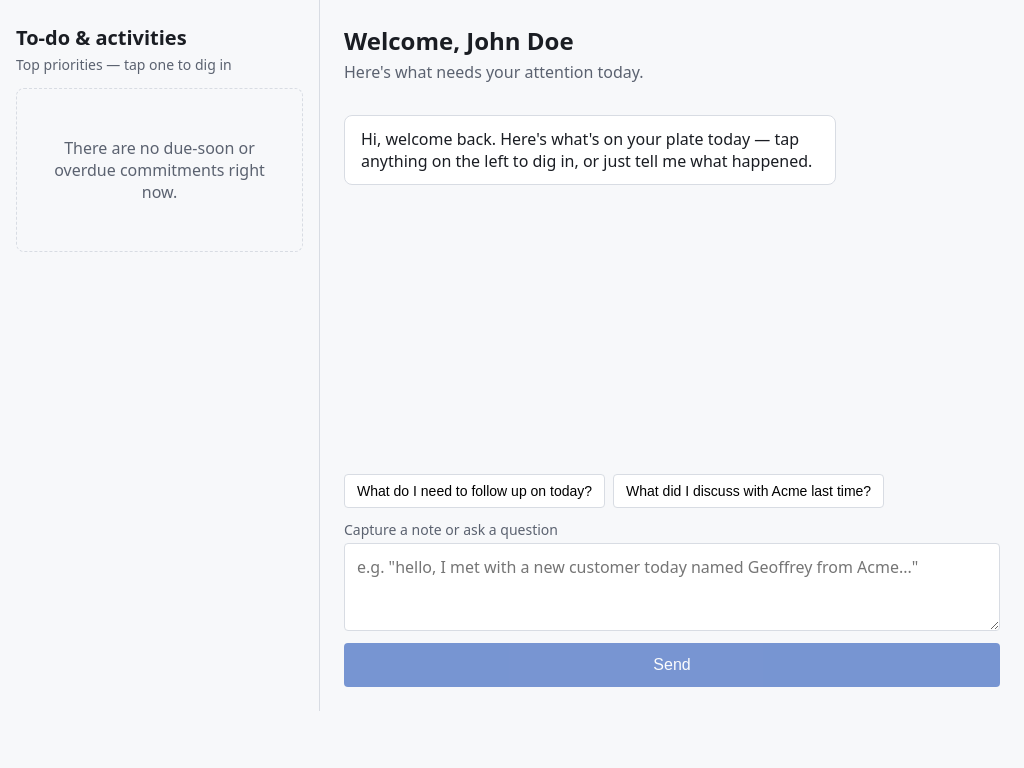
Test: HomePage › routes a non-question entry to /interactions (capture), not /qa
Expected: the text "There are no due-soon or overdue commitments right now." is shown, left=49, top=137, right=270, bottom=203
Type "met with Acme, discussed renewal" into the text box labelled "Capture a note or ask a question".
click(672, 587); type("met with Acme, discussed renewal")  # box left=344, top=543, right=1000, bottom=631
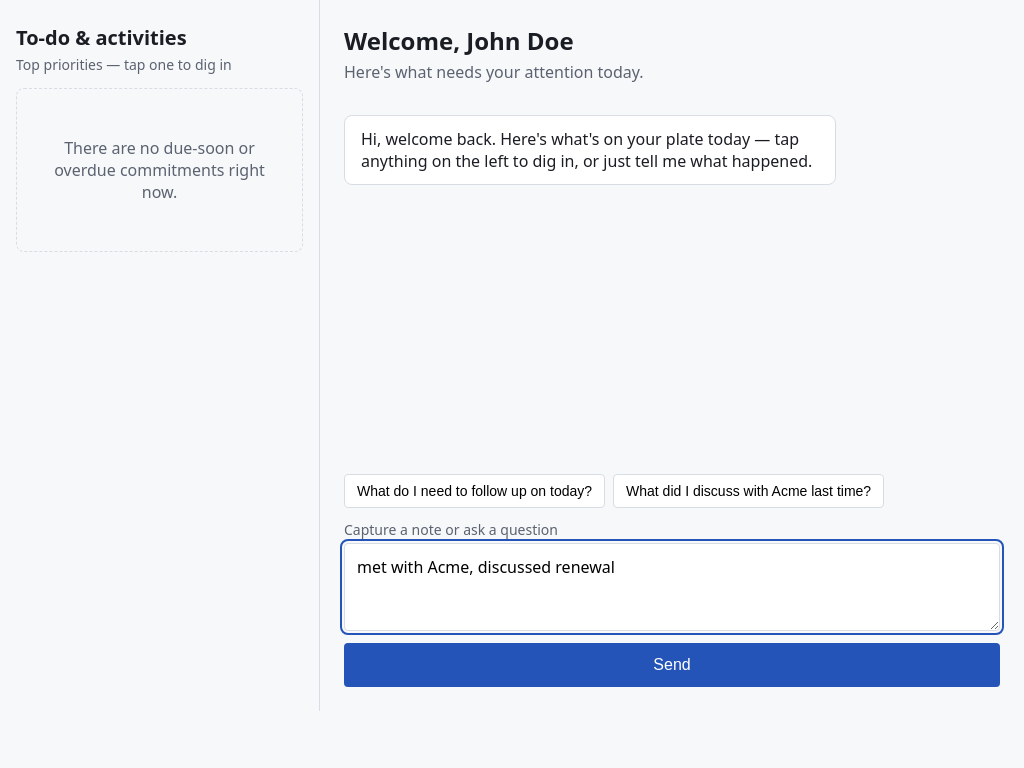
Click the button "Send".
click(672, 665)  # box left=344, top=643, right=1000, bottom=687
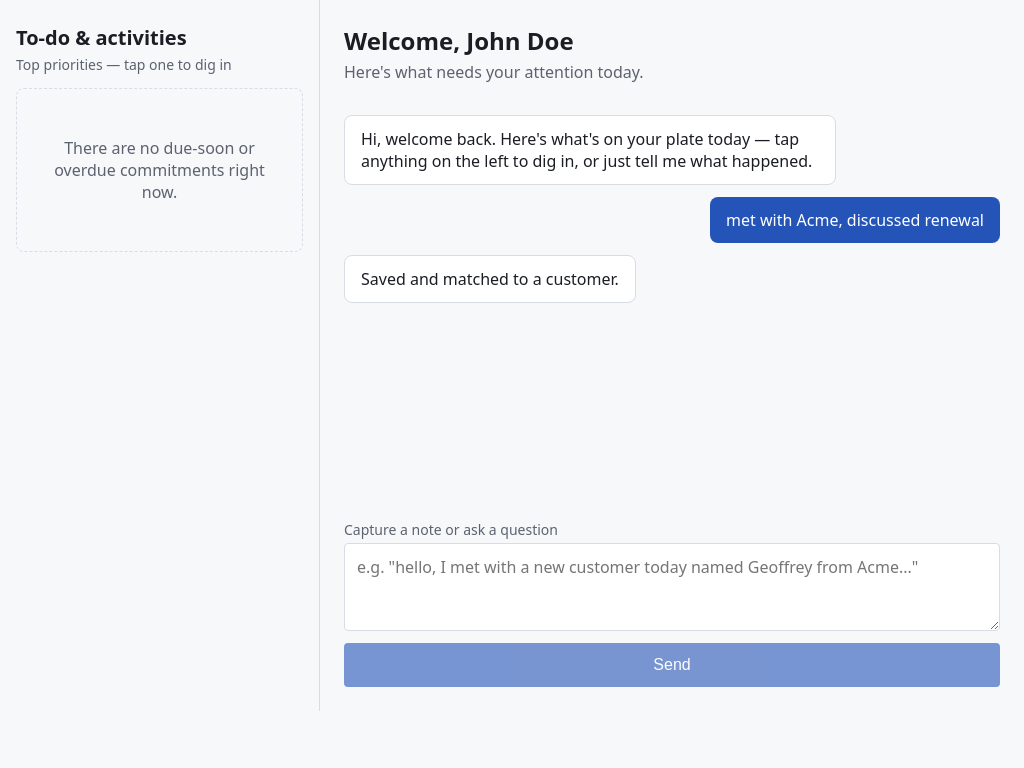
Now the text "Saved and matched to a customer." is shown, box left=344, top=255, right=636, bottom=303
